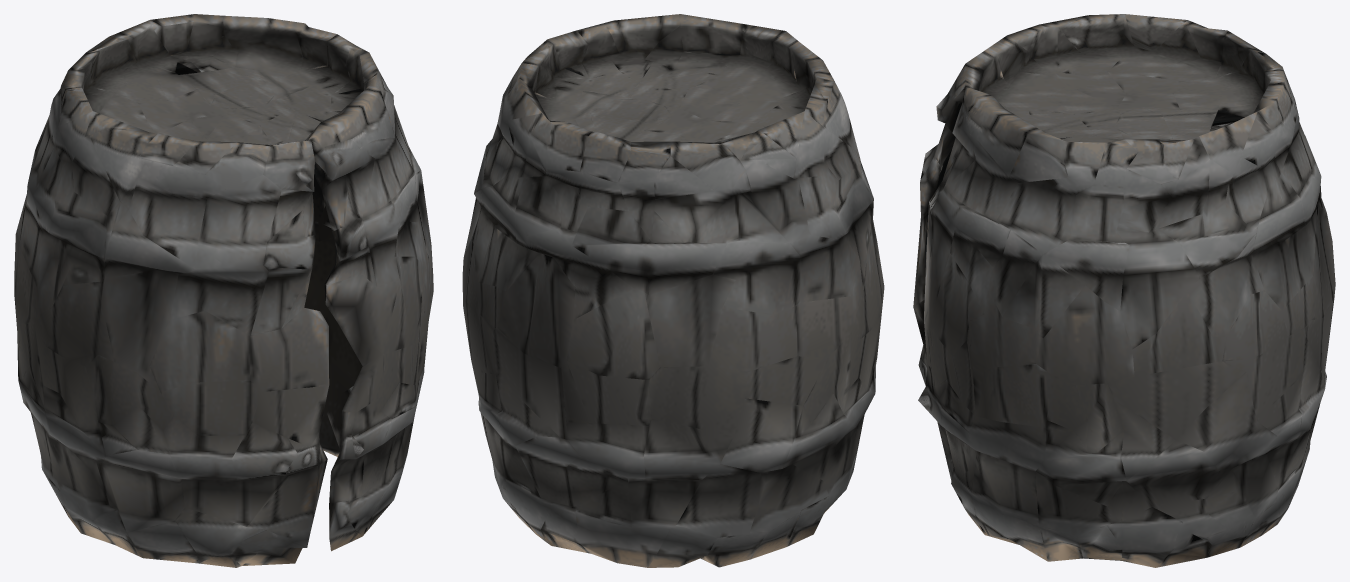
Rendered from wooden_barrel_cracked.glb.
3 renders of one model, left to right at view 1: azimuth 30°, elevation 25°; view 2: azimuth 150°, elevation 25°; view 3: azimuth 270°, elevation 25°, orthographic.
Bounding box in the file's own units: 1.8 × 2 × 1.8.
Materials: 1 (1 with a texture image).
